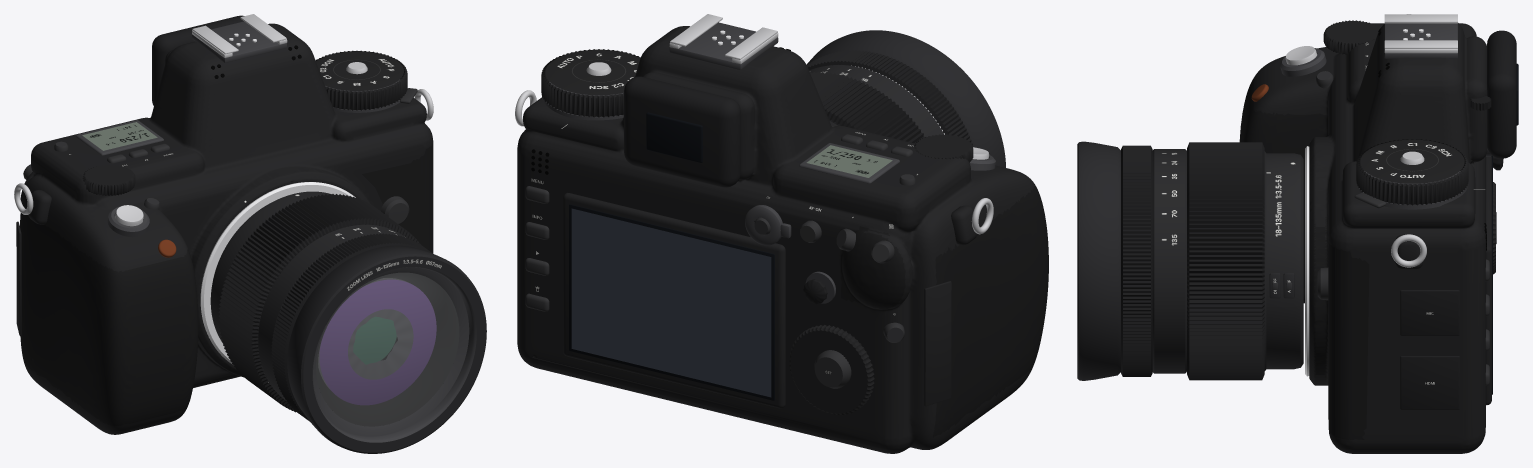
Rendered from dslr_camera.glb.
The picture shows the model from 3 angles, left to right: view 1: azimuth 30°, elevation 25°; view 2: azimuth 150°, elevation 25°; view 3: azimuth 270°, elevation 25°; orthographic projection. The views are drawn at different scales.
Visible parts, largest first — view 1: Body, Lens_Glass, Lens_ZoomRing, Lens_Element2, Lens_Interior, Lens_NameRing, Lens_Thread, Lens_Front, Lens_FocusRing, Lens_Mid, Mount_Ring, ModeDial_Top (+16 smaller); view 2: Body, Screen, Eyecup, Screen_Bezel, Lens_Front, QuickDial, Lens_ZoomRing, Lens_FocusRing, CardDoor, ModeDial_Top, Screen_Glass_Edge, Viewfinder_Glass (+11 smaller); view 3: Body, Lens_ZoomRing, Lens_Front, Lens_Base, Lens_Mid, Lens_FocusRing, Eyecup, ModeDial_Top, PortCover_HDMI, PortCover_MIC, ModeDial, HotShoe_Base (+10 smaller).
Part boxes in pixels (x1,y1,x2,y2): Body: (19, 23, 433, 434); Lens_Glass: (316, 273, 458, 426); Lens_ZoomRing: (218, 194, 420, 413); Lens_Element2: (319, 279, 436, 405); Lens_Interior: (316, 272, 459, 426); Lens_NameRing: (303, 256, 485, 452); Lens_Thread: (312, 266, 476, 442); Lens_Front: (287, 245, 486, 453); Lens_FocusRing: (271, 233, 432, 421); Lens_Mid: (258, 224, 405, 411); Mount_Ring: (200, 182, 355, 364); ModeDial_Top: (316, 51, 403, 90); Body: (517, 26, 1048, 453); Screen: (571, 208, 771, 397); Eyecup: (624, 76, 740, 187); Screen_Bezel: (563, 192, 785, 408); Lens_Front: (806, 30, 1005, 167); QuickDial: (789, 325, 874, 415); Lens_ZoomRing: (810, 72, 925, 143); Lens_FocusRing: (806, 50, 973, 147); CardDoor: (924, 281, 951, 406); ModeDial_Top: (545, 50, 640, 95); Screen_Glass_Edge: (569, 204, 774, 400); Viewfinder_Glass: (646, 112, 702, 162); Body: (1239, 23, 1487, 453); Lens_ZoomRing: (1187, 142, 1264, 380); Lens_Front: (1077, 141, 1120, 380); Lens_Base: (1264, 151, 1303, 370); Lens_Mid: (1152, 149, 1186, 373); Lens_FocusRing: (1121, 145, 1152, 376); Eyecup: (1487, 30, 1516, 158); ModeDial_Top: (1360, 139, 1464, 183); PortCover_HDMI: (1400, 356, 1459, 409); PortCover_MIC: (1400, 290, 1459, 335); ModeDial: (1356, 139, 1468, 205); HotShoe_Base: (1384, 23, 1457, 58).
Bounding box in the file's own units: 1.48 × 1.09 × 1.26.
24 materials, 6 textured.
